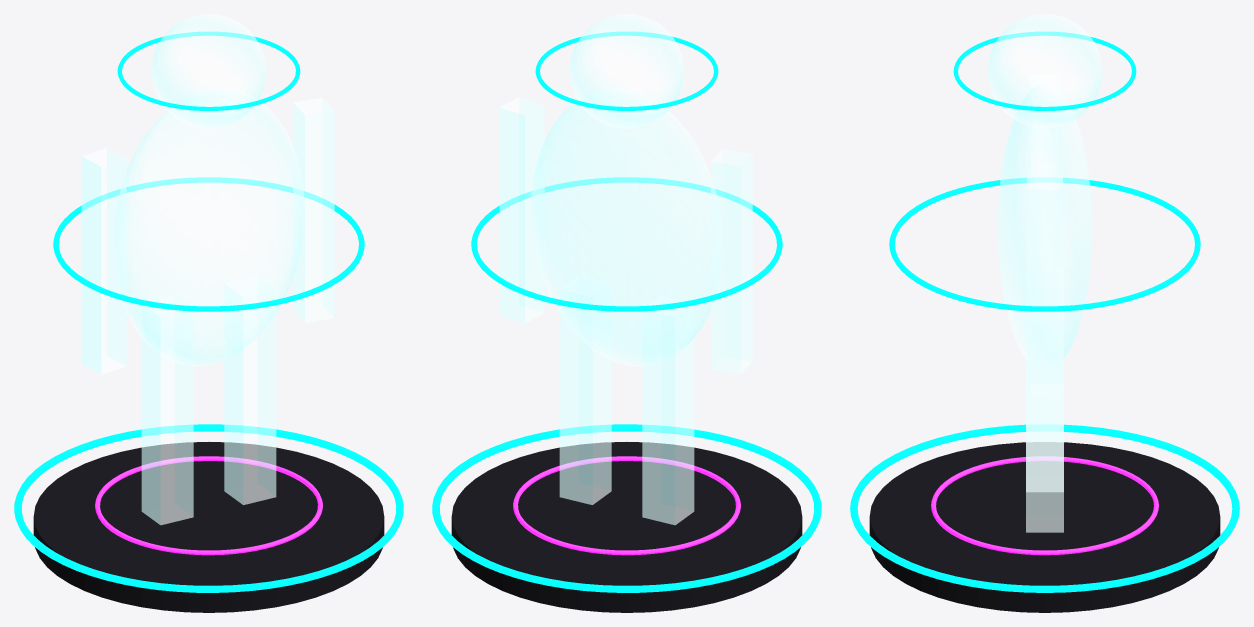
File: presence_rig.glb
3 views of the same model, side by side, from view 1: azimuth 30°, elevation 25°; view 2: azimuth 150°, elevation 25°; view 3: azimuth 270°, elevation 25° (orthographic).
Visible parts, largest first — view 1: hologram_presence_rig_projector_base, hologram_presence_rig_torso, hologram_presence_rig_left_leg, hologram_presence_rig_right_leg, hologram_presence_rig_head, hologram_presence_rig_left_arm, hologram_presence_rig_right_arm, hologram_presence_rig_floor_ring_outer, hologram_presence_rig_waist_orbit, hologram_presence_rig_floor_ring_inner, hologram_presence_rig_head_scan_orbit; view 2: hologram_presence_rig_projector_base, hologram_presence_rig_torso, hologram_presence_rig_left_leg, hologram_presence_rig_right_leg, hologram_presence_rig_head, hologram_presence_rig_right_arm, hologram_presence_rig_left_arm, hologram_presence_rig_floor_ring_outer, hologram_presence_rig_waist_orbit, hologram_presence_rig_floor_ring_inner, hologram_presence_rig_head_scan_orbit; view 3: hologram_presence_rig_projector_base, hologram_presence_rig_torso, hologram_presence_rig_head, hologram_presence_rig_right_arm, hologram_presence_rig_floor_ring_outer, hologram_presence_rig_right_leg, hologram_presence_rig_waist_orbit, hologram_presence_rig_left_leg, hologram_presence_rig_floor_ring_inner, hologram_presence_rig_left_arm, hologram_presence_rig_head_scan_orbit.
Boxes of the visible parts, x1=… form: hologram_presence_rig_projector_base: x1=33, y1=442, x2=384, y2=612; hologram_presence_rig_torso: x1=113, y1=88, x2=304, y2=366; hologram_presence_rig_left_leg: x1=141, y1=296, x2=193, y2=524; hologram_presence_rig_right_leg: x1=224, y1=275, x2=276, y2=504; hologram_presence_rig_head: x1=151, y1=14, x2=266, y2=128; hologram_presence_rig_left_arm: x1=81, y1=148, x2=126, y2=374; hologram_presence_rig_right_arm: x1=293, y1=97, x2=334, y2=322; hologram_presence_rig_floor_ring_outer: x1=14, y1=424, x2=403, y2=592; hologram_presence_rig_waist_orbit: x1=53, y1=177, x2=364, y2=311; hologram_presence_rig_floor_ring_inner: x1=95, y1=456, x2=322, y2=555; hologram_presence_rig_head_scan_orbit: x1=117, y1=32, x2=300, y2=110; hologram_presence_rig_projector_base: x1=451, y1=442, x2=802, y2=612; hologram_presence_rig_torso: x1=531, y1=88, x2=722, y2=366; hologram_presence_rig_left_leg: x1=642, y1=296, x2=694, y2=524; hologram_presence_rig_right_leg: x1=559, y1=275, x2=611, y2=504; hologram_presence_rig_head: x1=569, y1=14, x2=684, y2=128; hologram_presence_rig_right_arm: x1=499, y1=97, x2=544, y2=323; hologram_presence_rig_left_arm: x1=711, y1=149, x2=752, y2=373; hologram_presence_rig_floor_ring_outer: x1=432, y1=424, x2=821, y2=592; hologram_presence_rig_waist_orbit: x1=471, y1=177, x2=782, y2=311; hologram_presence_rig_floor_ring_inner: x1=513, y1=456, x2=740, y2=555; hologram_presence_rig_head_scan_orbit: x1=535, y1=32, x2=718, y2=110; hologram_presence_rig_projector_base: x1=869, y1=442, x2=1220, y2=612; hologram_presence_rig_torso: x1=997, y1=84, x2=1092, y2=358; hologram_presence_rig_head: x1=987, y1=14, x2=1102, y2=128; hologram_presence_rig_right_arm: x1=1027, y1=175, x2=1062, y2=398; hologram_presence_rig_floor_ring_outer: x1=850, y1=424, x2=1239, y2=592; hologram_presence_rig_right_leg: x1=1026, y1=311, x2=1063, y2=532; hologram_presence_rig_waist_orbit: x1=889, y1=178, x2=1200, y2=311; hologram_presence_rig_left_leg: x1=1026, y1=268, x2=1063, y2=491; hologram_presence_rig_floor_ring_inner: x1=931, y1=457, x2=1158, y2=555; hologram_presence_rig_left_arm: x1=1027, y1=73, x2=1062, y2=186; hologram_presence_rig_head_scan_orbit: x1=953, y1=32, x2=1136, y2=110.
Size of the model in its own units: 1.22 by 1.8 by 1.22.
